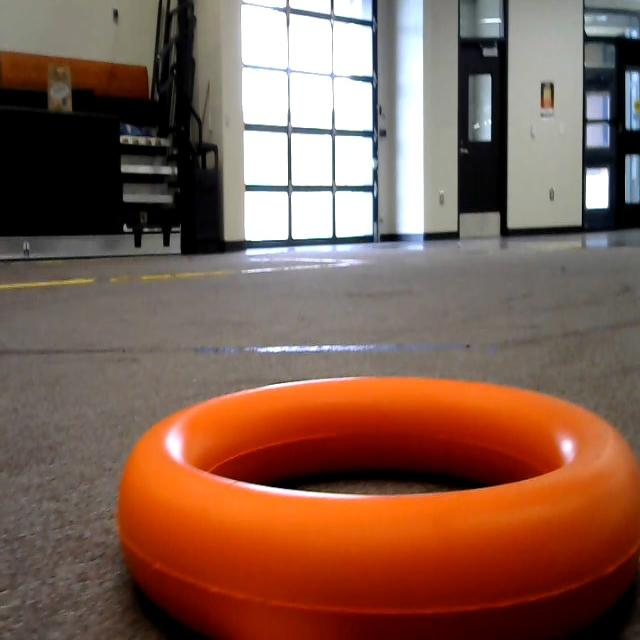note: (101, 363, 640, 639)
